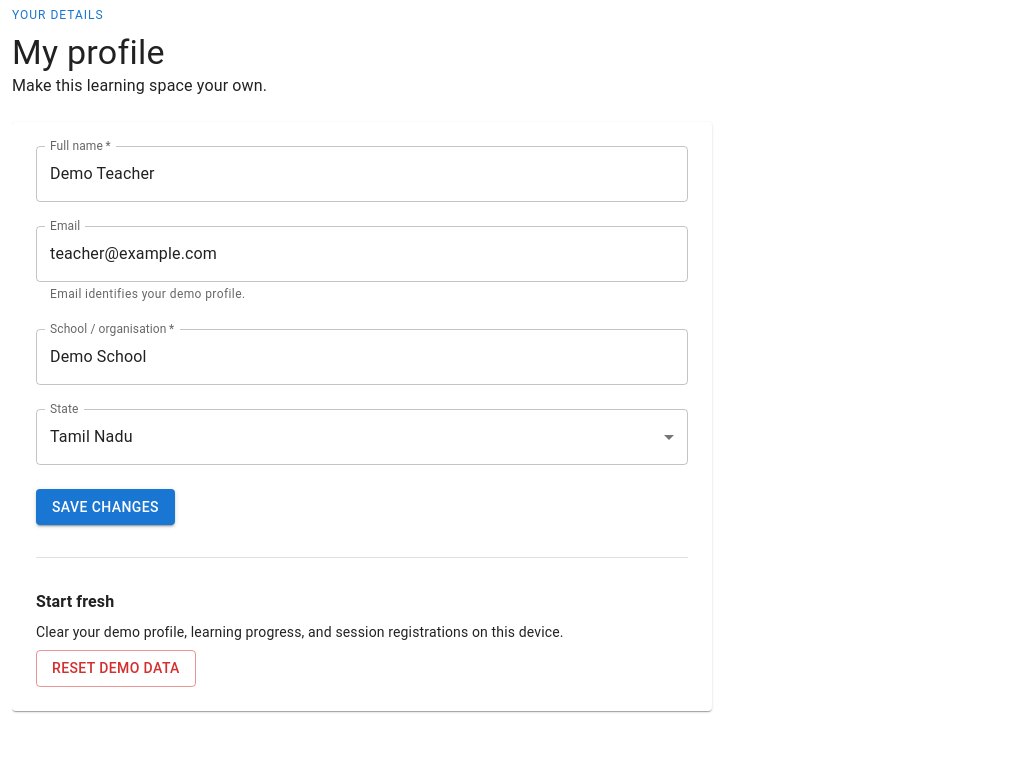
Test: preserves a registration state outside the initial five states when editing a profile
Expected: the dropdown named "State" reads "Tamil Nadu", [50,427,133,446]
Replace the text in the field labelled "Full name *" with "Updated Teacher" at (362, 174), box [36,146,688,202]
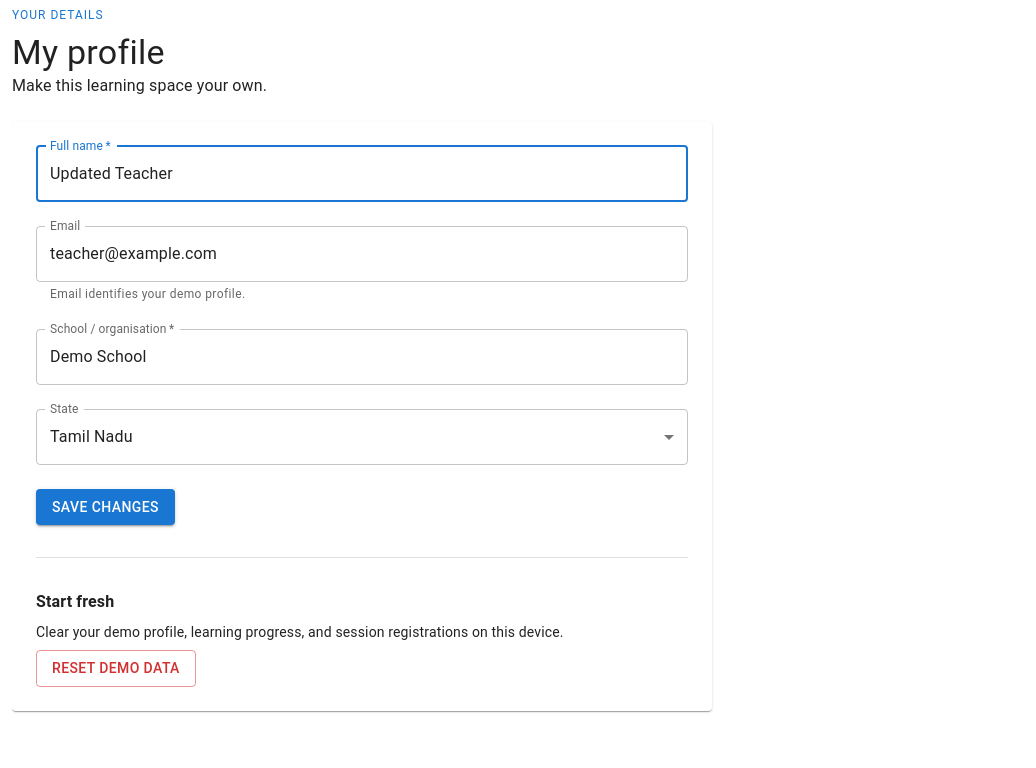
Click the button "Save changes" at (105, 507), box [36,489,175,525]
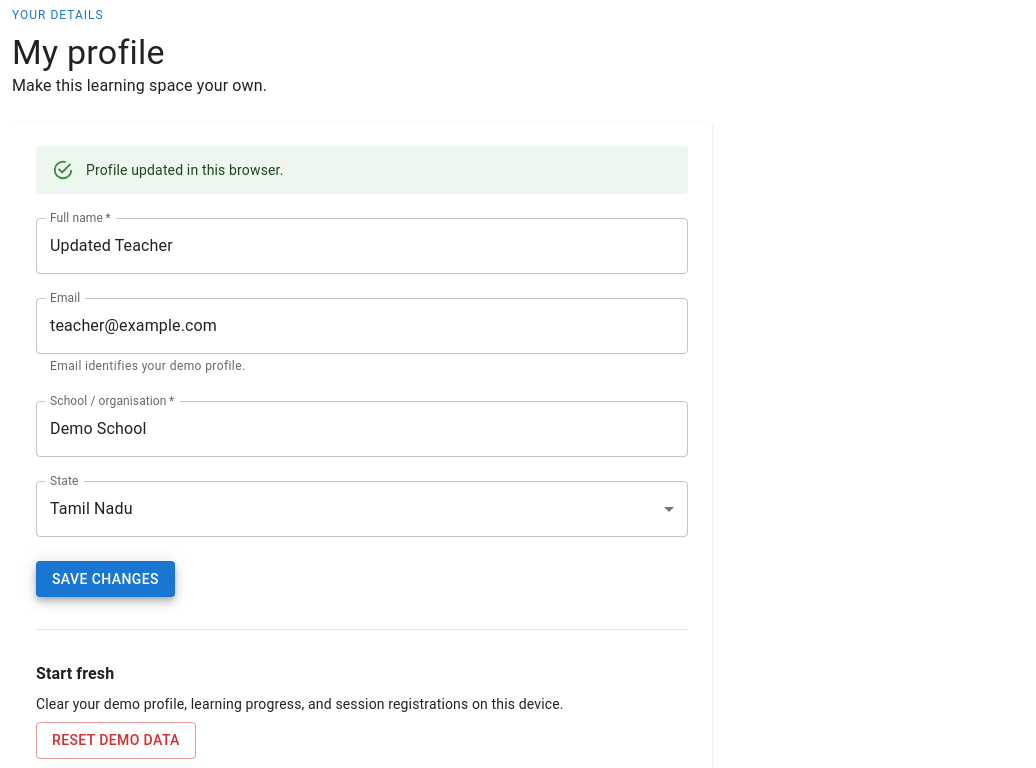
Expected: the message reads "Profile updated in this browser.", [86,162,284,178]
